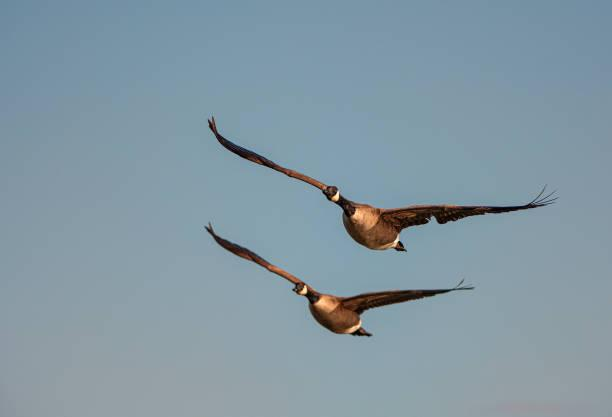Canadian-Goose: (205, 116, 558, 255), (203, 223, 478, 338)
